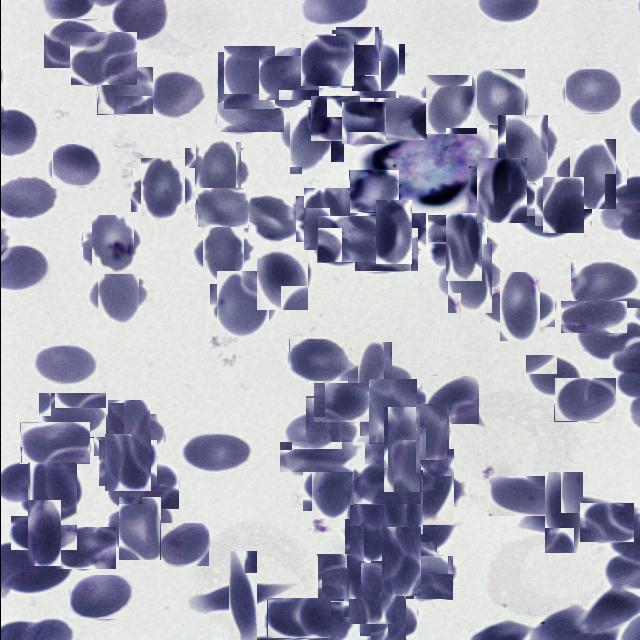red blood cell: (400, 457, 461, 518), (211, 567, 272, 628), (371, 420, 432, 480), (212, 274, 272, 334), (492, 119, 552, 179), (533, 483, 593, 543), (70, 32, 136, 85), (472, 162, 530, 220), (220, 48, 278, 106), (562, 144, 620, 202), (570, 260, 640, 308), (440, 250, 498, 307), (364, 384, 421, 441), (296, 404, 352, 462), (316, 216, 385, 263), (374, 518, 463, 554), (107, 464, 178, 509), (253, 252, 310, 308), (190, 143, 246, 199), (24, 466, 80, 522), (100, 407, 156, 463), (422, 76, 478, 132), (37, 393, 105, 438), (488, 476, 564, 516), (44, 19, 106, 68), (346, 352, 401, 407), (392, 404, 448, 458), (282, 114, 337, 168), (374, 534, 428, 589), (179, 433, 253, 473), (20, 422, 90, 464), (135, 163, 189, 217), (306, 461, 360, 515), (492, 280, 546, 334), (347, 41, 401, 95), (470, 70, 524, 124), (300, 192, 354, 246), (344, 566, 398, 620), (353, 228, 417, 272), (112, 503, 166, 555), (352, 464, 420, 505), (69, 575, 132, 619), (437, 221, 490, 273), (421, 376, 478, 424), (554, 378, 616, 422), (196, 227, 248, 279), (262, 52, 314, 104), (101, 437, 153, 489), (300, 35, 352, 87), (376, 476, 428, 528), (96, 67, 152, 115), (216, 92, 283, 132), (278, 442, 364, 473), (266, 598, 331, 639), (86, 220, 138, 270), (346, 508, 398, 558), (288, 338, 347, 382), (316, 554, 370, 602), (368, 206, 418, 257), (55, 527, 115, 569), (564, 69, 620, 114), (92, 268, 142, 318), (18, 508, 68, 558), (525, 355, 583, 398), (396, 556, 452, 600), (538, 181, 587, 230), (247, 194, 296, 242), (151, 71, 203, 116), (312, 383, 370, 423), (373, 98, 428, 140), (309, 96, 359, 142), (34, 346, 95, 383), (158, 523, 208, 567), (516, 198, 573, 236), (51, 144, 100, 188), (348, 170, 398, 213), (560, 301, 626, 333), (579, 503, 633, 542), (364, 595, 410, 640), (196, 188, 247, 228), (334, 29, 379, 74), (342, 101, 386, 145), (426, 214, 486, 244)
